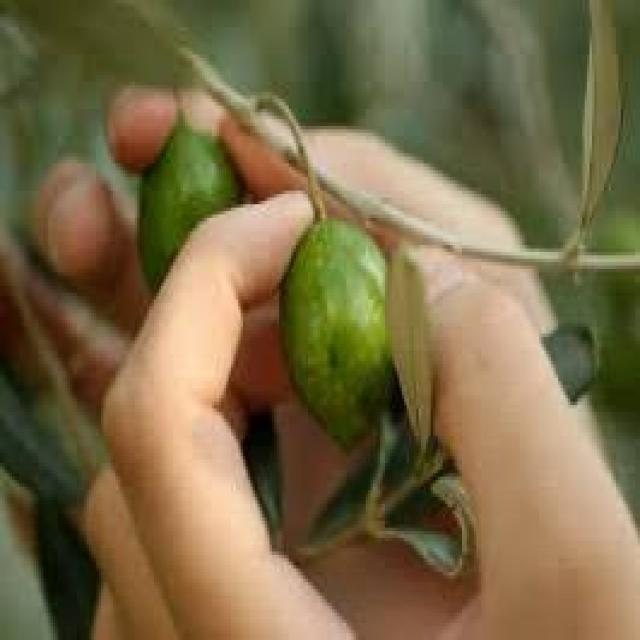Olive Fruit Fly: (280, 218, 387, 446)
